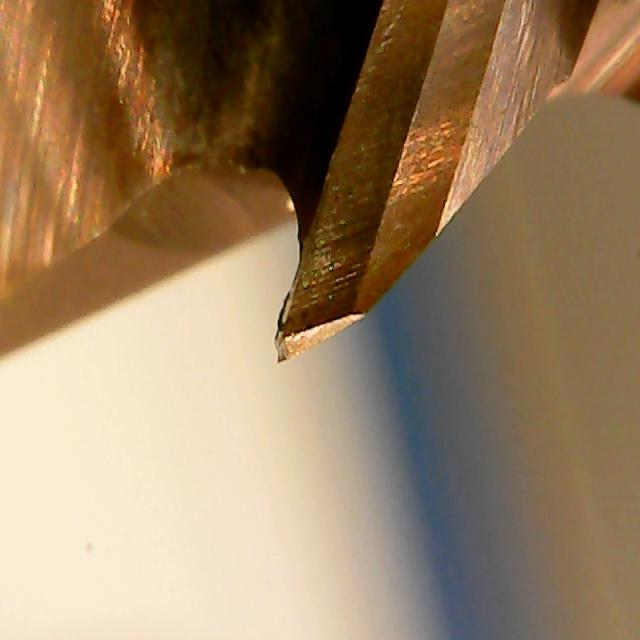Tool-wear-class-1: (260, 93, 426, 385)
